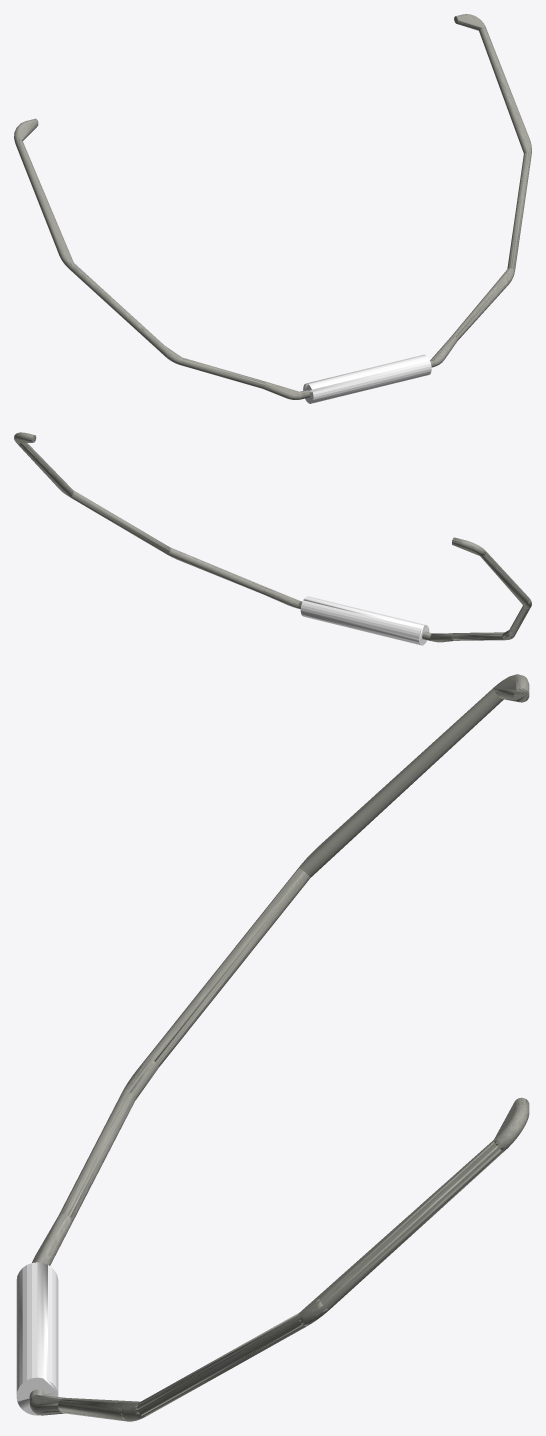
Rendered from original-11.obj.
3 renders of one model, top to bottom at view 1: azimuth 30°, elevation 25°; view 2: azimuth 150°, elevation 25°; view 3: azimuth 270°, elevation 25°, orthographic. The views are drawn at different scales.
Visible parts, largest first — view 1: #ID77, #ID89.010, #ID89.013, #ID89.014, #ID89.012, #ID89.011, #ID89.015; view 2: #ID77, #ID89.012, #ID89.011, #ID89.010, #ID89.013, #ID89.015, #ID89.003, #ID89.004, #ID89.014; view 3: #ID77, #ID89.013, #ID89.010, #ID89.014, #ID89.012, #ID89.015, #ID89.011, #ID89.005, #ID89.002.
Boxes of the visible parts, x1=… form: #ID77: x1=303, y1=354, x2=431, y2=403; #ID89.010: x1=479, y1=27, x2=529, y2=153; #ID89.013: x1=15, y1=140, x2=73, y2=263; #ID89.014: x1=68, y1=263, x2=166, y2=355; #ID89.012: x1=507, y1=152, x2=531, y2=269; #ID89.011: x1=452, y1=268, x2=512, y2=340; #ID89.015: x1=180, y1=358, x2=265, y2=388; #ID77: x1=300, y1=596, x2=429, y2=645; #ID89.012: x1=70, y1=490, x2=170, y2=554; #ID89.011: x1=167, y1=547, x2=265, y2=593; #ID89.010: x1=17, y1=443, x2=73, y2=496; #ID89.013: x1=480, y1=551, x2=529, y2=607; #ID89.015: x1=451, y1=632, x2=505, y2=640; #ID89.003: x1=262, y1=587, x2=300, y2=608; #ID89.004: x1=452, y1=537, x2=485, y2=556; #ID89.014: x1=508, y1=605, x2=530, y2=637; #ID77: x1=16, y1=1262, x2=58, y2=1415; #ID89.013: x1=299, y1=687, x2=503, y2=877; #ID89.010: x1=299, y1=1140, x2=503, y2=1313; #ID89.014: x1=147, y1=868, x2=310, y2=1066; #ID89.012: x1=137, y1=1313, x2=306, y2=1416; #ID89.015: x1=59, y1=1091, x2=135, y2=1221; #ID89.011: x1=58, y1=1398, x2=139, y2=1421; #ID89.005: x1=494, y1=1097, x2=529, y2=1151; #ID89.002: x1=32, y1=1214, x2=72, y2=1265.
Bounding box in the file's own units: 1.42 × 0.6726 × 0.6726.
